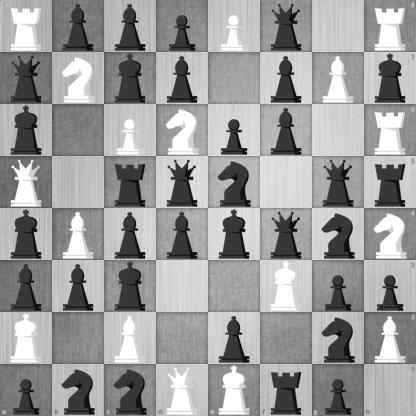B: (364, 312, 416, 364), (53, 209, 104, 260), (105, 313, 156, 364), (313, 53, 364, 104)
K: (209, 364, 260, 416), (1, 313, 52, 364), (261, 261, 312, 312)
N: (364, 209, 416, 260), (53, 53, 104, 104), (157, 105, 208, 156)
P: (105, 105, 156, 156), (209, 1, 260, 52)
Q: (156, 364, 209, 416), (1, 157, 52, 208)
R: (364, 0, 416, 52), (364, 104, 416, 156), (1, 1, 52, 52)
b: (1, 261, 52, 312), (53, 1, 104, 52), (53, 261, 104, 312), (105, 1, 156, 52), (105, 209, 156, 260), (157, 53, 208, 104), (157, 209, 208, 260), (209, 313, 260, 364), (261, 53, 312, 104), (261, 105, 312, 156)
board: (0, 0, 415, 415)
k: (364, 52, 416, 104), (1, 105, 52, 156), (1, 209, 52, 260), (105, 53, 156, 104), (105, 261, 156, 312), (209, 209, 260, 260)
n: (52, 364, 104, 416), (104, 364, 156, 416), (209, 157, 260, 208), (313, 209, 364, 260), (313, 313, 364, 364)
p: (0, 364, 52, 416), (312, 364, 364, 416), (364, 260, 416, 312), (157, 1, 208, 52), (209, 105, 260, 156), (313, 261, 364, 312)
q: (1, 53, 52, 104), (157, 157, 208, 208), (261, 1, 312, 52), (261, 209, 312, 260), (313, 157, 364, 208)
r: (364, 156, 416, 209), (260, 364, 312, 416), (105, 157, 156, 208)
